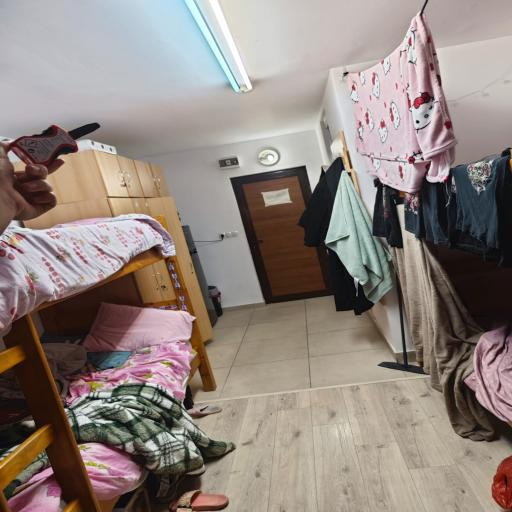Super Glue: (9, 122, 100, 168)
